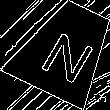N_NE: (33, 19, 98, 81)
